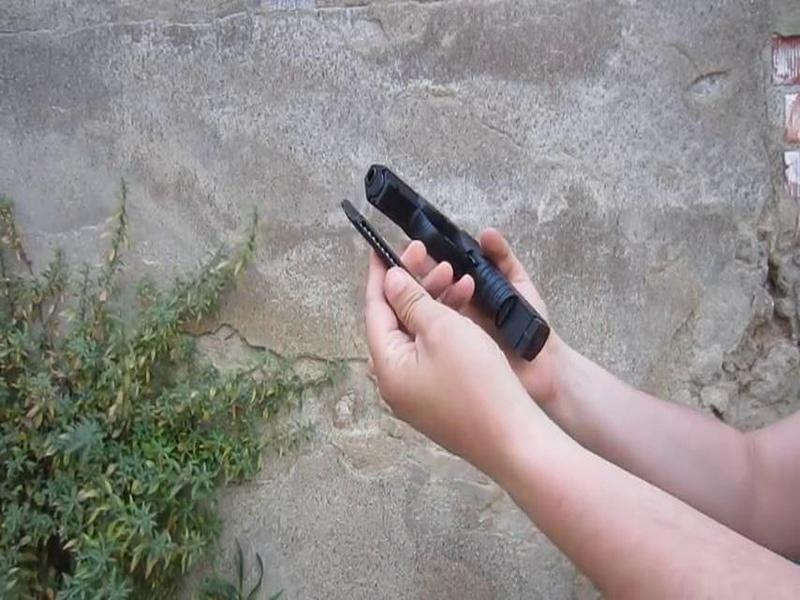Pistola: (342, 144, 557, 372)
